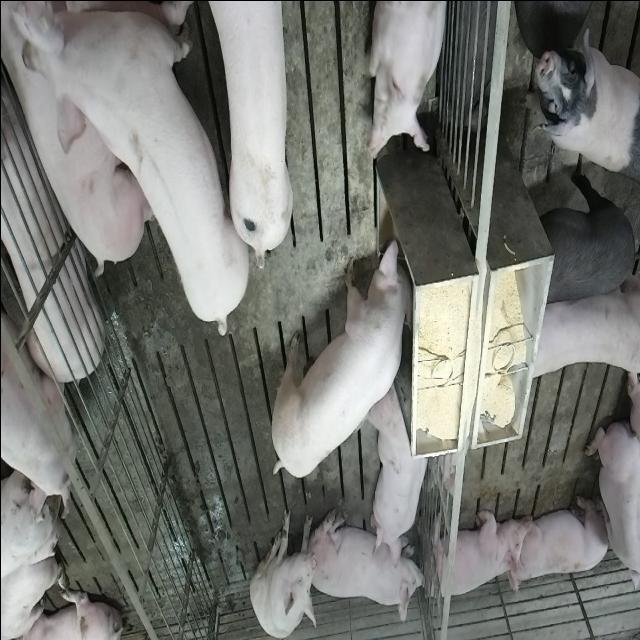Feeding: (265, 236, 411, 478)
Lateral_lying: (0, 0, 155, 271), (0, 59, 103, 386)
Sitting: (250, 504, 318, 636)
Standing: (31, 3, 251, 345), (216, 0, 294, 261), (0, 279, 78, 520), (529, 32, 637, 180), (528, 163, 636, 306), (520, 268, 638, 384)
Sternal_lying: (363, 1, 448, 160), (314, 507, 424, 625), (370, 379, 431, 563), (510, 490, 611, 590), (584, 416, 638, 602), (426, 505, 524, 603)
